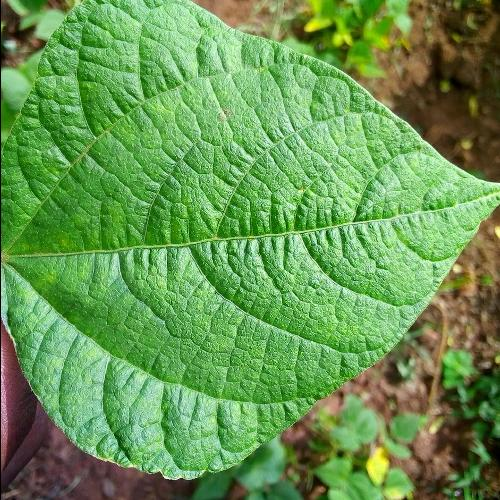hawar: (17, 52, 376, 436)
